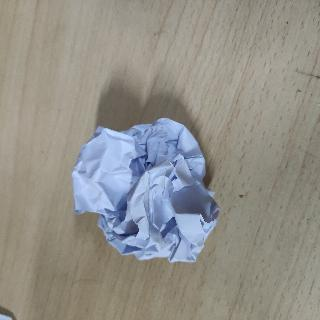8/可回收垃圾/纸: (71, 116, 221, 264)
